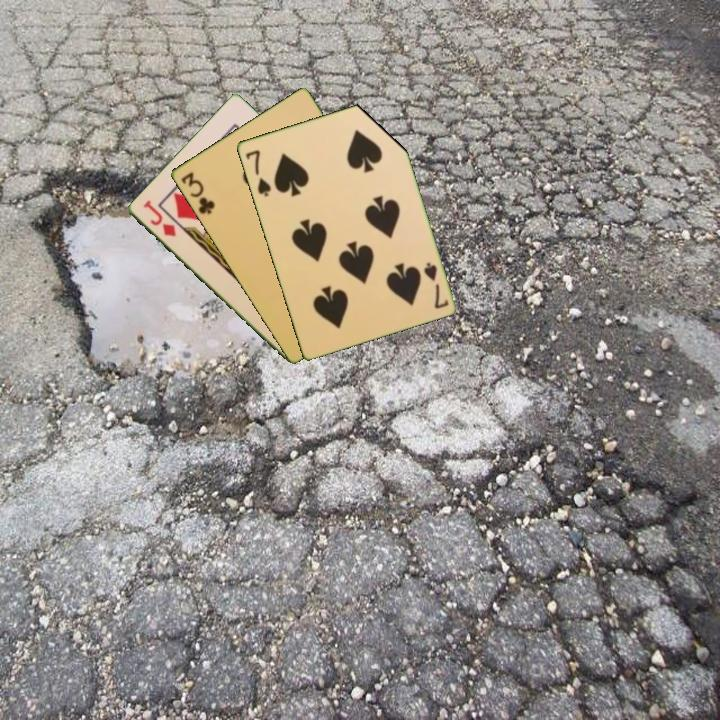3c: (177, 168, 218, 217)
7s: (242, 146, 273, 199), (420, 259, 451, 312)
Jd: (139, 196, 179, 240)
